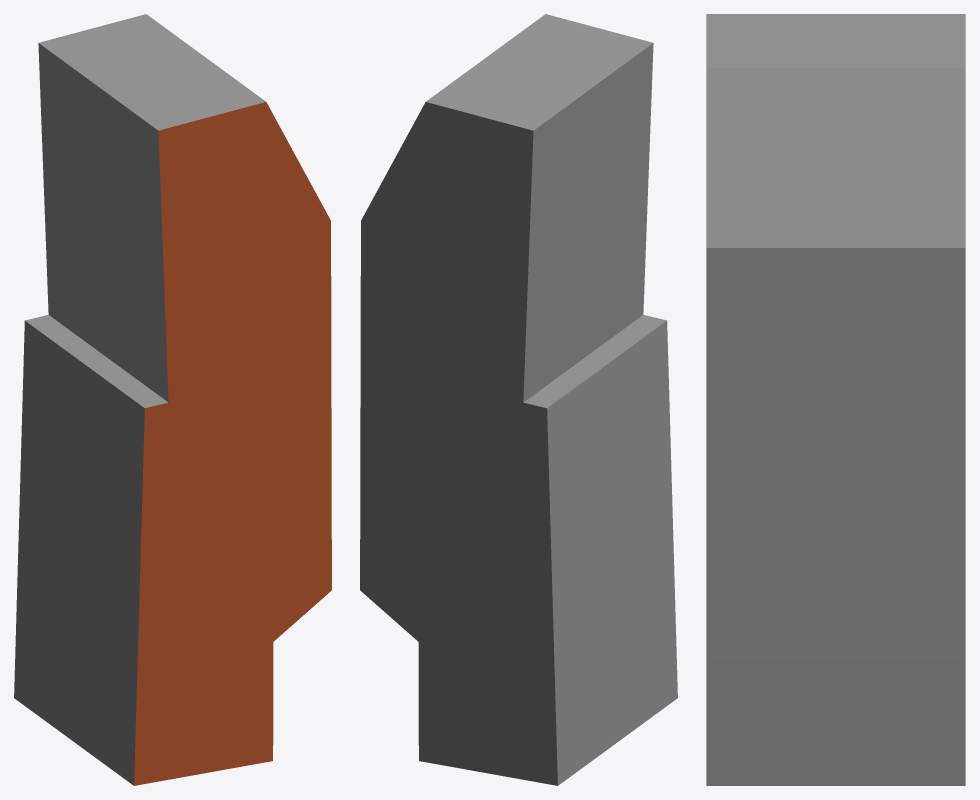
The model's file is construction_5947_assumed_A_Casa_h6m.obj.
3 views of the same model, side by side, from view 1: azimuth 30°, elevation 25°; view 2: azimuth 150°, elevation 25°; view 3: azimuth 270°, elevation 25° (orthographic). The views are drawn at different scales.
Visible parts, largest first — view 1: construction_5947_assumed_A_Casa; view 2: construction_5947_assumed_A_Casa; view 3: construction_5947_assumed_A_Casa.
Part boxes in pixels (<box>): construction_5947_assumed_A_Casa: <box>14,14,331,785</box>; construction_5947_assumed_A_Casa: <box>360,14,677,785</box>; construction_5947_assumed_A_Casa: <box>706,14,965,785</box>.
Bounding box in the file's own units: 5.71 × 18.22 × 6.
